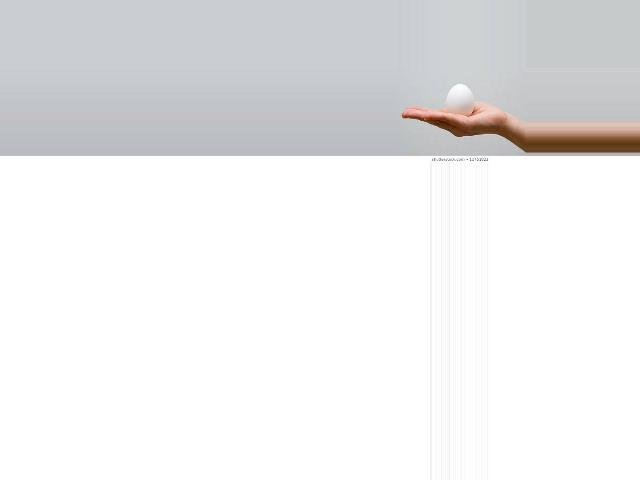egg: (446, 84, 472, 117)
